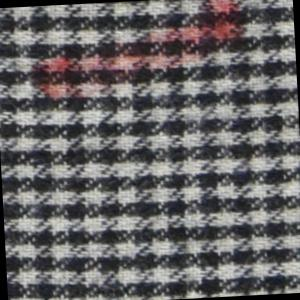Stain: (25, 1, 254, 106)
